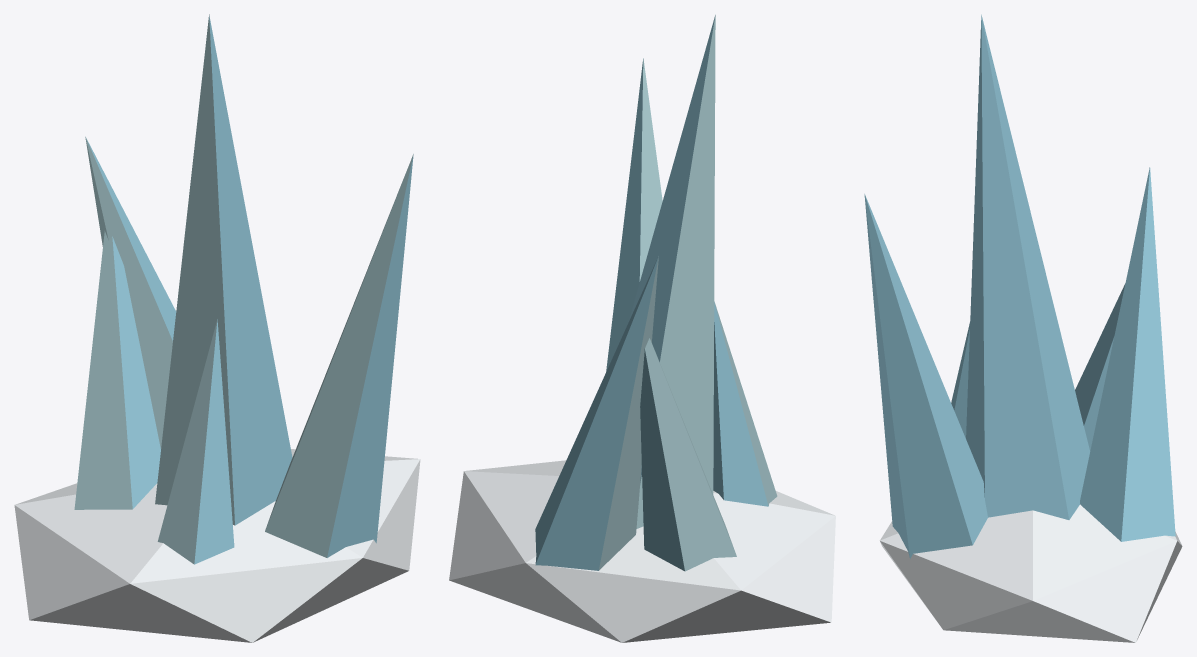
File: IceShard.fbx
3 renders of one model, left to right at view 1: azimuth 30°, elevation 25°; view 2: azimuth 150°, elevation 25°; view 3: azimuth 270°, elevation 25°, orthographic. The views are drawn at different scales.
Visible parts, largest first — view 1: IceShard; view 2: IceShard; view 3: IceShard.
Boxes of the visible parts, x1,y1,x2,y2 form: IceShard: (14,14,420,642); IceShard: (449,14,835,642); IceShard: (864,14,1182,642).
Size of the model in its own units: 1.2 by 1.83 by 0.9251.
